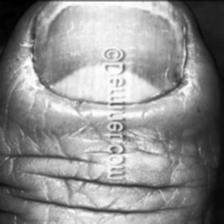Toxin: (32, 0, 190, 102)
